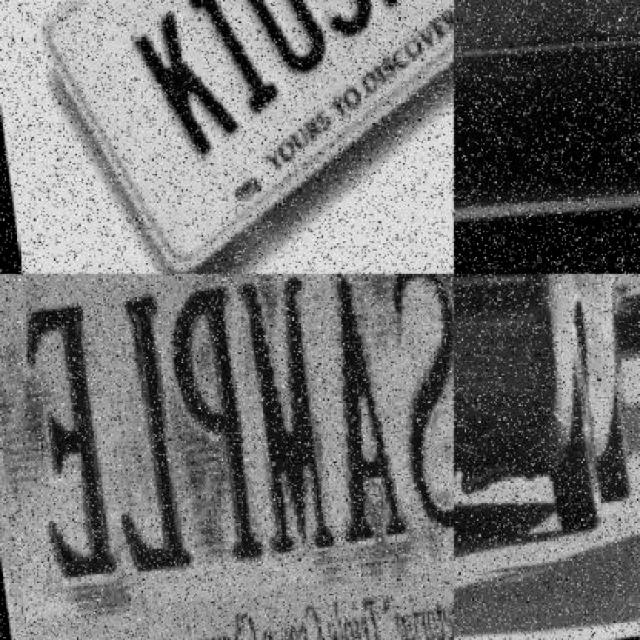licenseplate: (0, 275, 454, 613), (45, 0, 454, 183), (494, 0, 640, 72), (454, 376, 481, 433)
